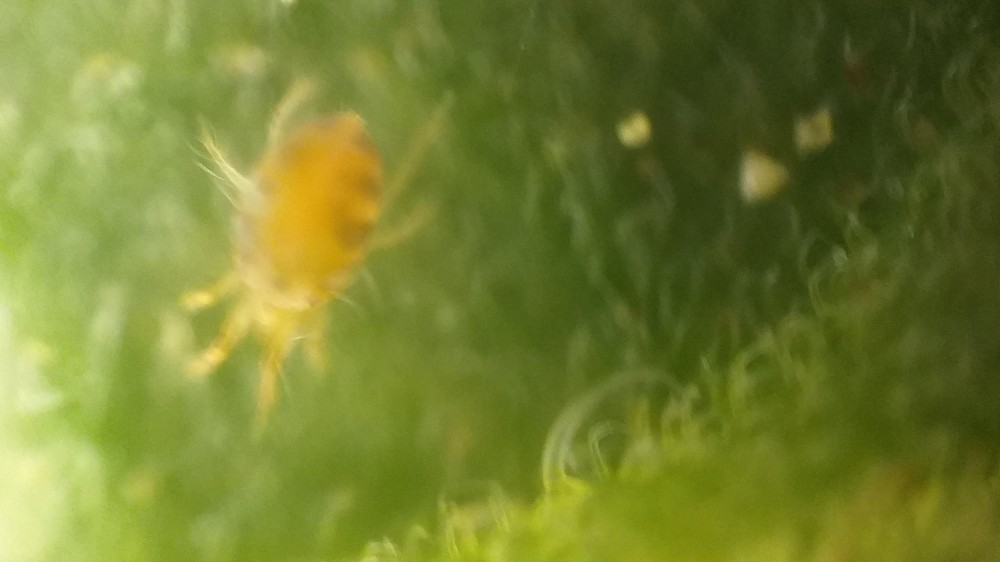Aracnido Rojo: (137, 77, 490, 429)
